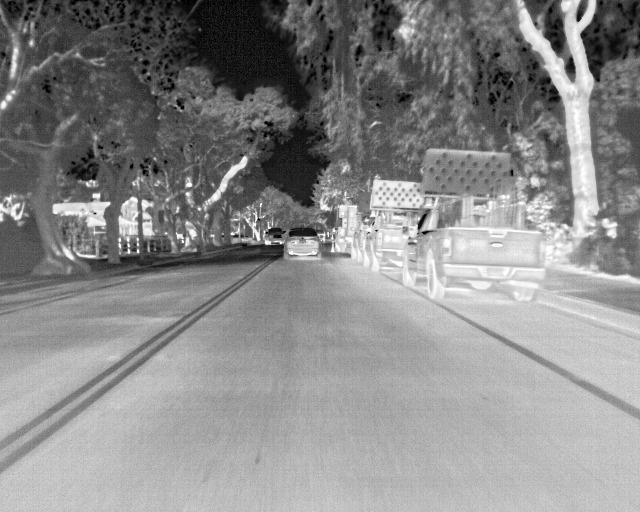car: (400, 147, 546, 304), (365, 177, 401, 270), (285, 226, 321, 258), (350, 219, 370, 259), (264, 227, 282, 244), (240, 233, 254, 245)
